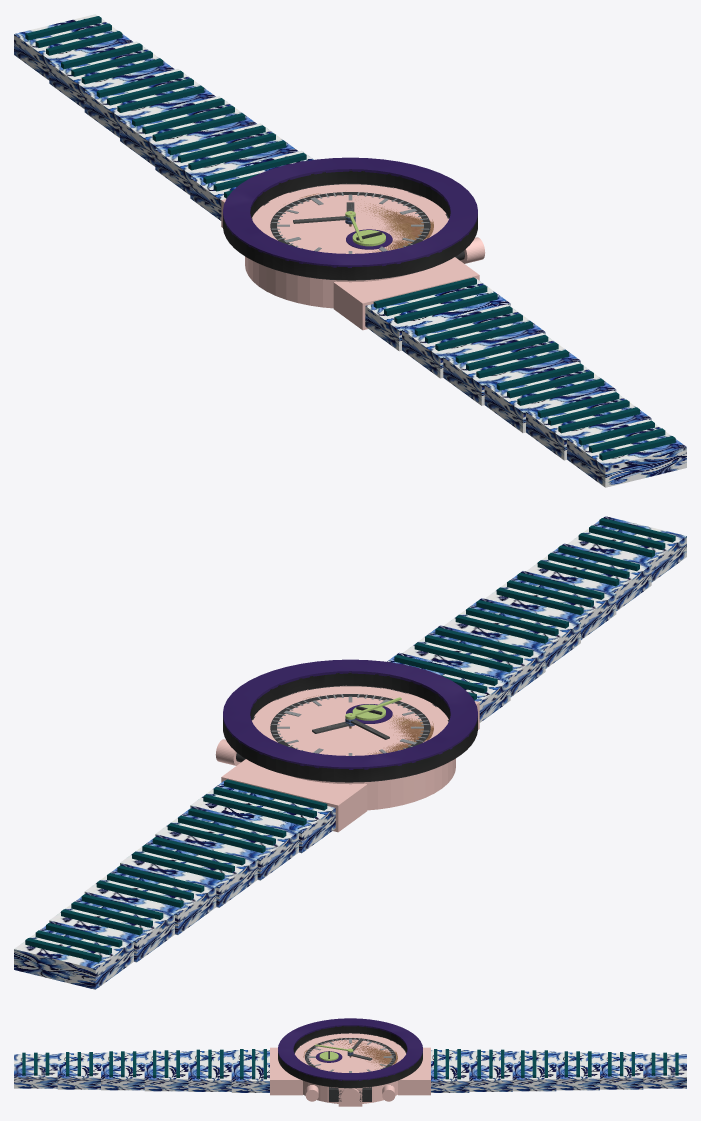
File: watch__2931.glb
3 renders of one model, top to bottom at view 1: azimuth 30°, elevation 25°; view 2: azimuth 150°, elevation 25°; view 3: azimuth 270°, elevation 25°, orthographic. The views are drawn at different scales.
Visible parts, largest first — view 1: case::case_body, bezel::bezel_chamfer, bezel::bezel_ring, bottom_strap_5::strap_body, case::bottom_lug_bridge, bottom_strap_1::strap_body, bottom_strap_2::strap_body, top_strap_1::strap_body, bottom_strap_3::strap_body, top_strap_2::strap_body, bottom_strap_0::strap_body, top_strap_3::strap_body (+28 smaller); view 2: case::case_body, bezel::bezel_chamfer, bezel::bezel_ring, top_strap_5::strap_body, case::top_lug_bridge, top_strap_1::strap_body, top_strap_2::strap_body, bottom_strap_1::strap_body, top_strap_3::strap_body, bottom_strap_2::strap_body, top_strap_0::strap_body, bottom_strap_3::strap_body (+28 smaller); view 3: bezel::bezel_chamfer, case::case_body, bezel::bezel_ring, bottom_strap_2::strap_body, top_strap_2::strap_body, bottom_strap_1::strap_body, top_strap_1::strap_body, bottom_strap_3::strap_body, top_strap_3::strap_body, bottom_strap_4::strap_body, top_strap_4::strap_body, bottom_strap_0::strap_body (+13 smaller).
Part boxes in pixels (box(x1,y1,x2,y2)): case::case_body: box(245, 184, 448, 308); bezel::bezel_chamfer: box(223, 157, 477, 267); bezel::bezel_ring: box(223, 170, 477, 279); bottom_strap_5::strap_body: box(567, 419, 686, 487); case::bottom_lug_bridge: box(333, 257, 479, 330); bottom_strap_1::strap_body: box(402, 304, 545, 378); bottom_strap_2::strap_body: box(443, 333, 580, 405); top_strap_1::strap_body: box(155, 123, 298, 194); bottom_strap_3::strap_body: box(484, 361, 616, 432); top_strap_2::strap_body: box(120, 96, 256, 166); bottom_strap_0::strap_body: box(365, 278, 510, 351); top_strap_3::strap_body: box(84, 69, 215, 137); case::case_body: box(252, 685, 455, 810); bezel::bezel_chamfer: box(223, 659, 477, 769); bezel::bezel_ring: box(223, 672, 477, 781); top_strap_5::strap_body: box(14, 921, 133, 989); case::top_lug_bridge: box(221, 759, 367, 832); top_strap_1::strap_body: box(155, 806, 298, 880); top_strap_2::strap_body: box(120, 835, 257, 907); bottom_strap_1::strap_body: box(402, 625, 545, 696); top_strap_3::strap_body: box(84, 863, 216, 934); bottom_strap_2::strap_body: box(444, 598, 580, 668); top_strap_0::strap_body: box(190, 780, 335, 853); bottom_strap_3::strap_body: box(485, 571, 616, 639); bezel::bezel_chamfer: box(278, 1018, 422, 1080); case::case_body: box(295, 1033, 405, 1103); bezel::bezel_ring: box(278, 1026, 422, 1087); bottom_strap_2::strap_body: box(144, 1051, 188, 1091); top_strap_2::strap_body: box(512, 1051, 556, 1091); bottom_strap_1::strap_body: box(188, 1051, 231, 1091); top_strap_1::strap_body: box(469, 1051, 512, 1091); bottom_strap_3::strap_body: box(101, 1052, 144, 1090); top_strap_3::strap_body: box(556, 1052, 599, 1090); bottom_strap_4::strap_body: box(57, 1053, 100, 1089); top_strap_4::strap_body: box(600, 1053, 643, 1089); bottom_strap_0::strap_body: box(231, 1050, 269, 1092).
Bounding box in the file's own units: 0.0556 × 0.0131 × 0.2575.
11 materials, 10 textured.
